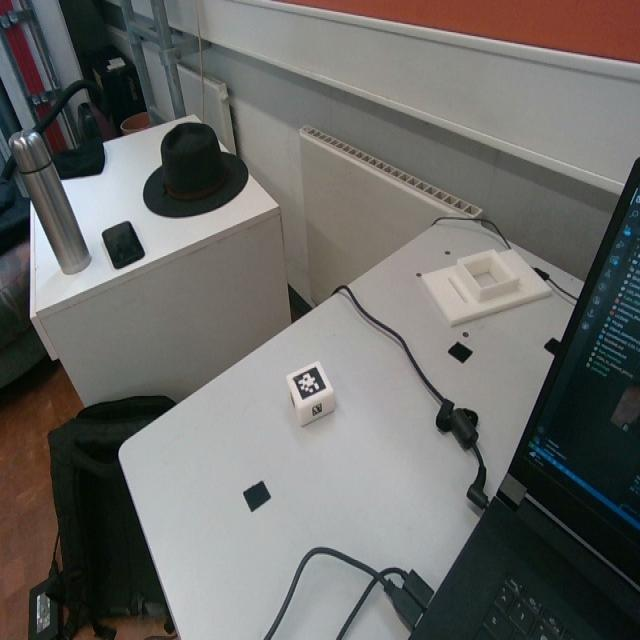Cube: (286, 360, 335, 432)
